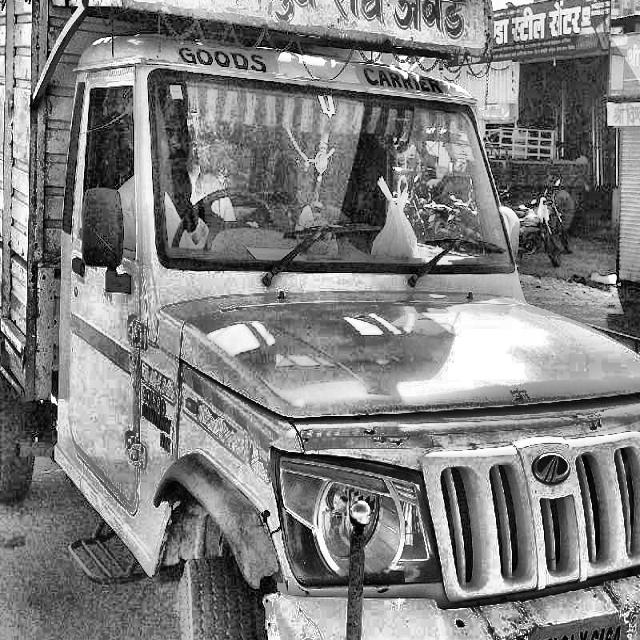light_vehicle: (55, 13, 640, 640)
